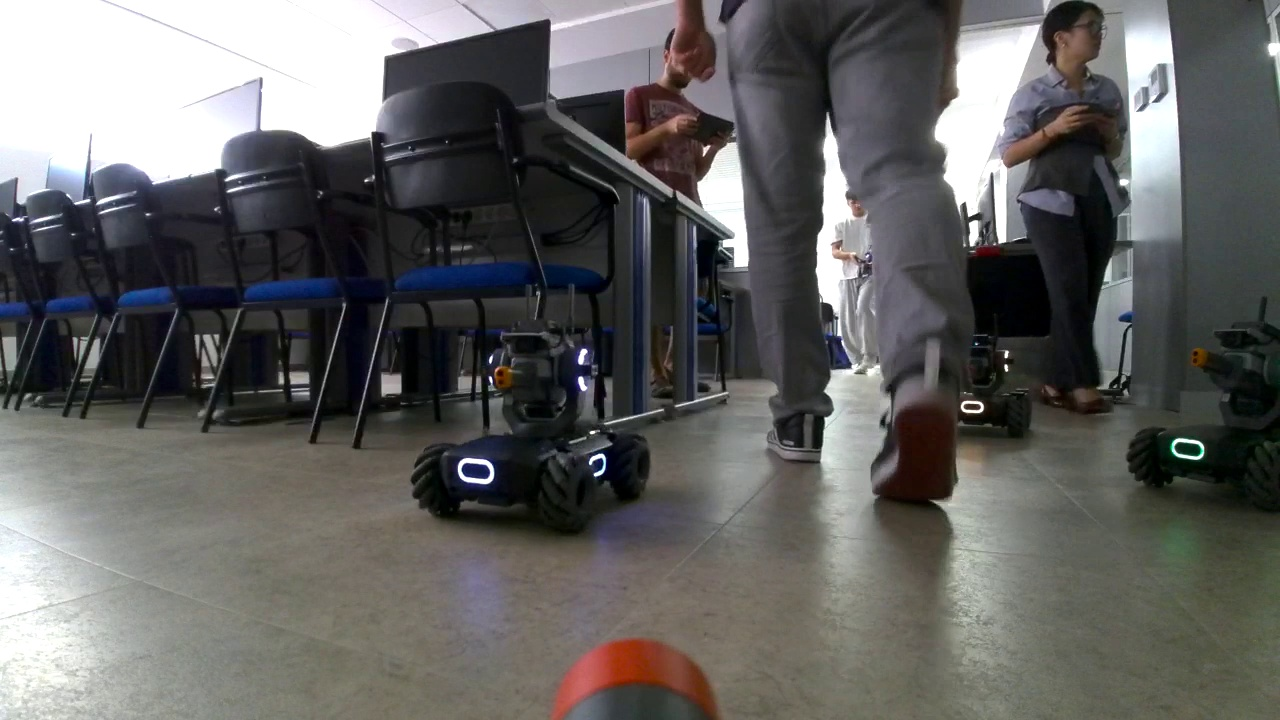robot: (413, 283, 648, 533), (1135, 297, 1280, 506), (935, 323, 1030, 429), (857, 243, 888, 277)
